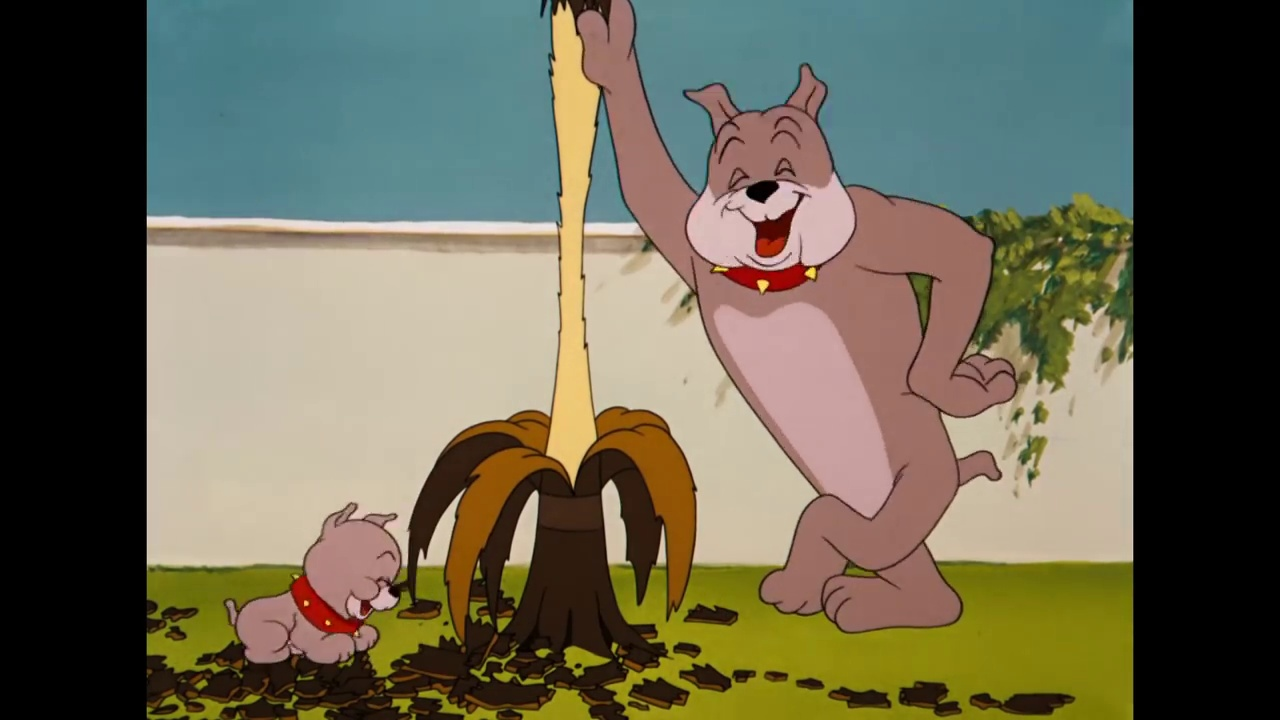spike: (676, 59, 859, 301)
